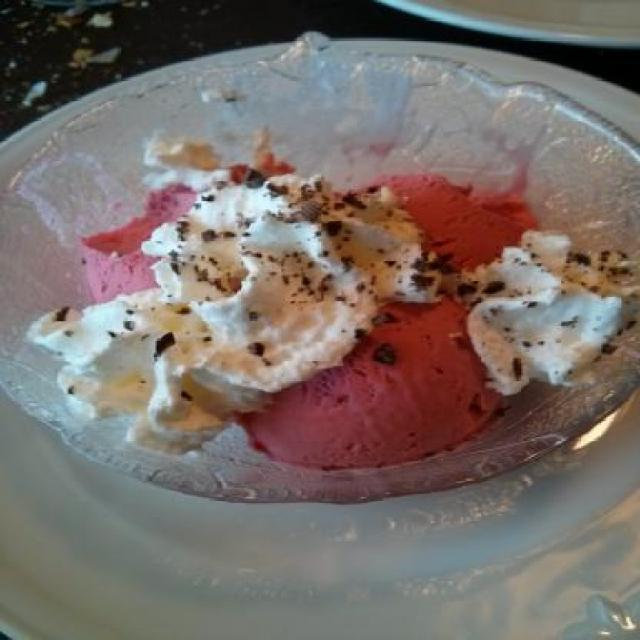Ice cream: (17, 132, 560, 488)
